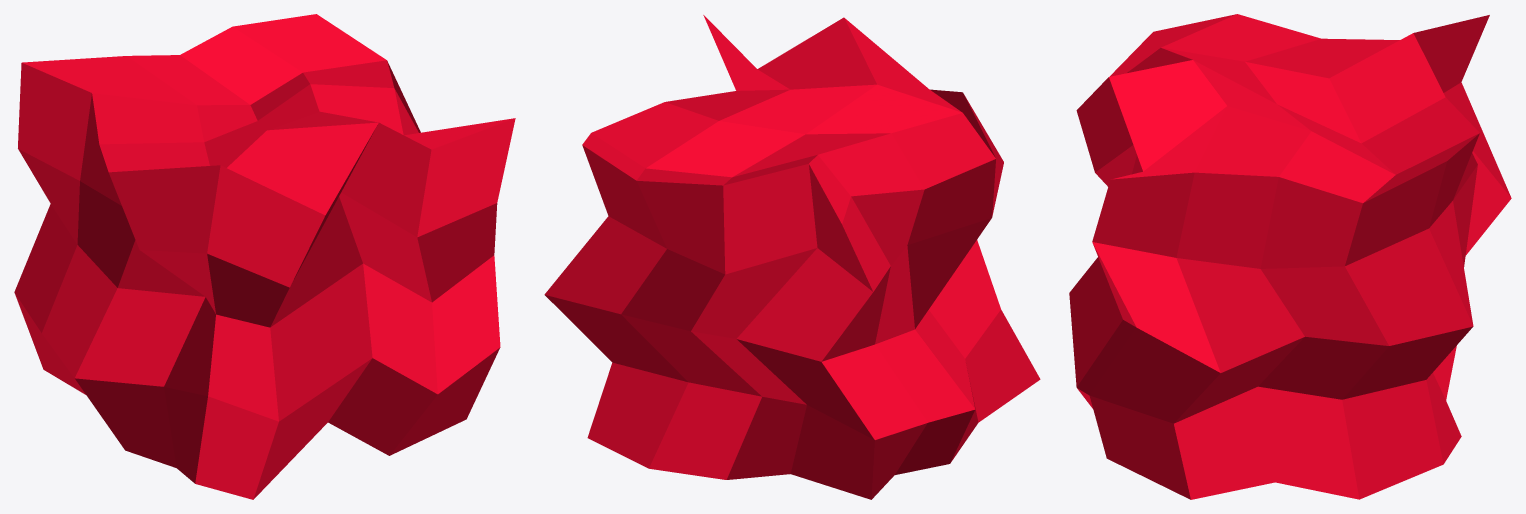
File: umgebung_papierknaul_low.FBX
3 renders of one model, left to right at view 1: azimuth 30°, elevation 25°; view 2: azimuth 150°, elevation 25°; view 3: azimuth 270°, elevation 25°, orthographic. The views are drawn at different scales.
Visible parts, largest first — view 1: o_papierknaule_low; view 2: o_papierknaule_low; view 3: o_papierknaule_low.
Boxes of the visible parts, left/top/right/bottom form: o_papierknaule_low: left=14, top=14, right=515, bottom=499; o_papierknaule_low: left=544, top=15, right=1040, bottom=499; o_papierknaule_low: left=1069, top=14, right=1511, bottom=499.
Bounding box in the file's own units: 34.04 × 32.84 × 30.85.
